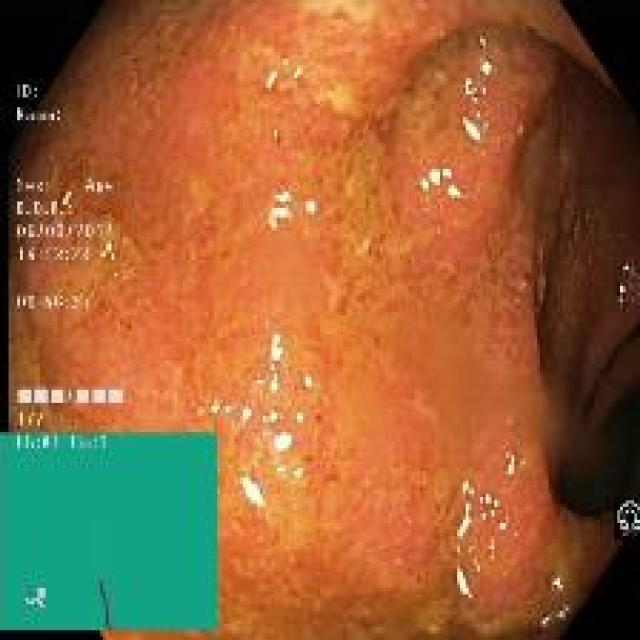ulcerative-colitis-grade-1: (10, 4, 615, 637)
